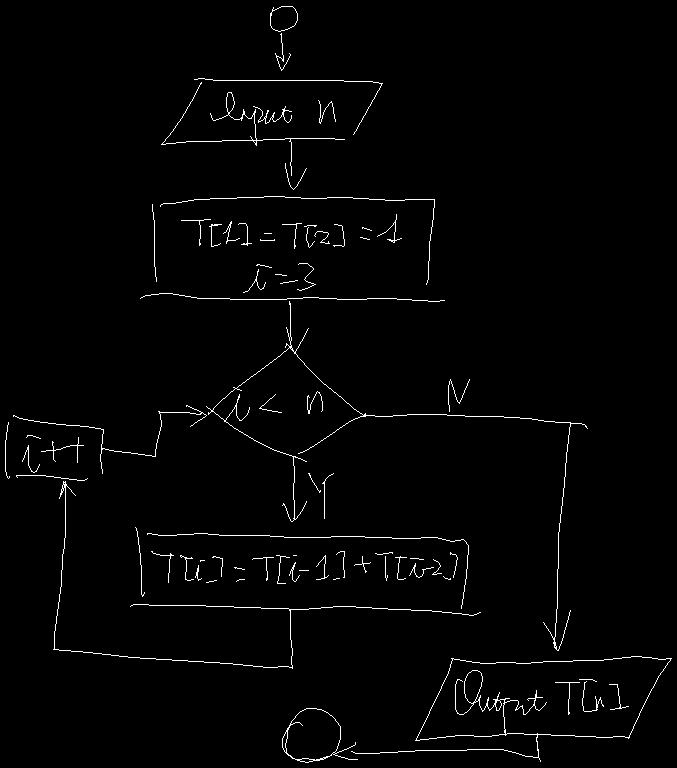arrow: (364, 413, 587, 650), (53, 481, 292, 668), (333, 733, 540, 761), (101, 405, 206, 456), (282, 456, 306, 521), (286, 301, 308, 353), (285, 139, 306, 189), (275, 33, 290, 70)
connection: (282, 708, 340, 762), (270, 6, 297, 31)
data: (415, 656, 671, 740), (161, 78, 382, 144)
decision: (206, 343, 365, 461)
process: (140, 196, 444, 301), (130, 527, 480, 615), (5, 415, 103, 480)
text: (181, 214, 401, 292), (455, 670, 628, 735), (151, 551, 457, 583), (210, 92, 335, 145), (224, 387, 322, 421), (22, 435, 83, 472), (308, 473, 333, 518), (448, 379, 469, 411)
